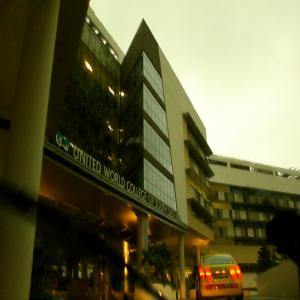Vehicle-registration-plate: (215, 273, 229, 281)
